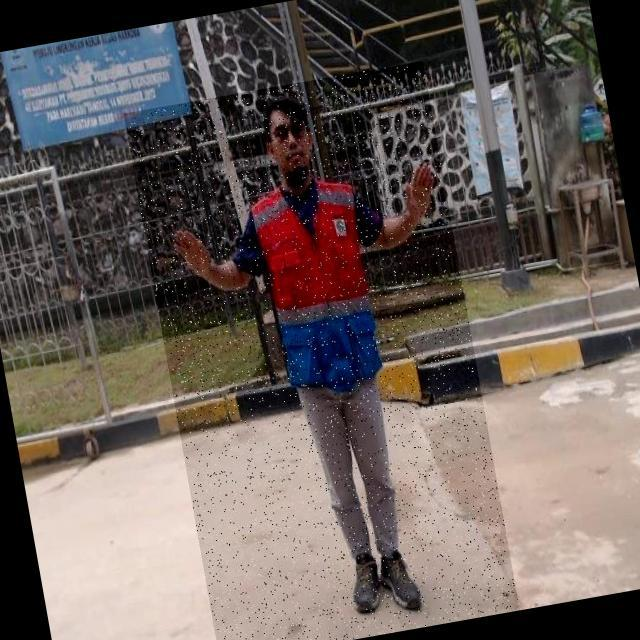Human: (123, 60, 519, 640)
Safety Boot: (375, 545, 427, 619), (343, 548, 387, 617)
Safety Vest: (244, 168, 389, 393)
